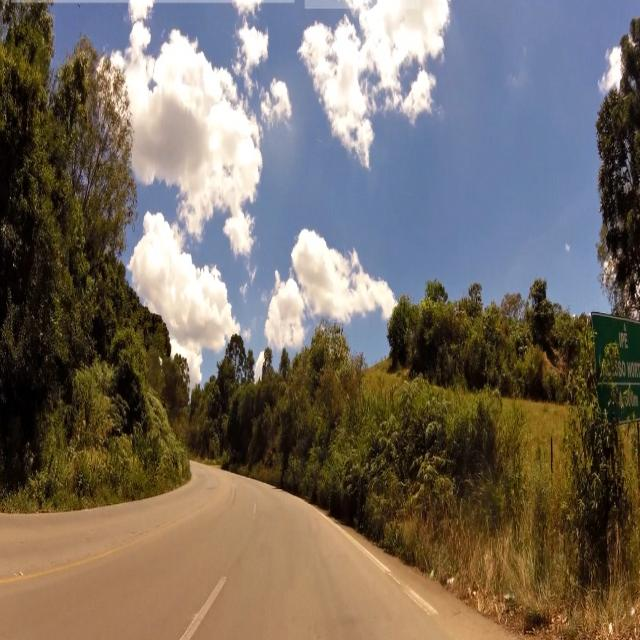I-4: (592, 312, 640, 421)
